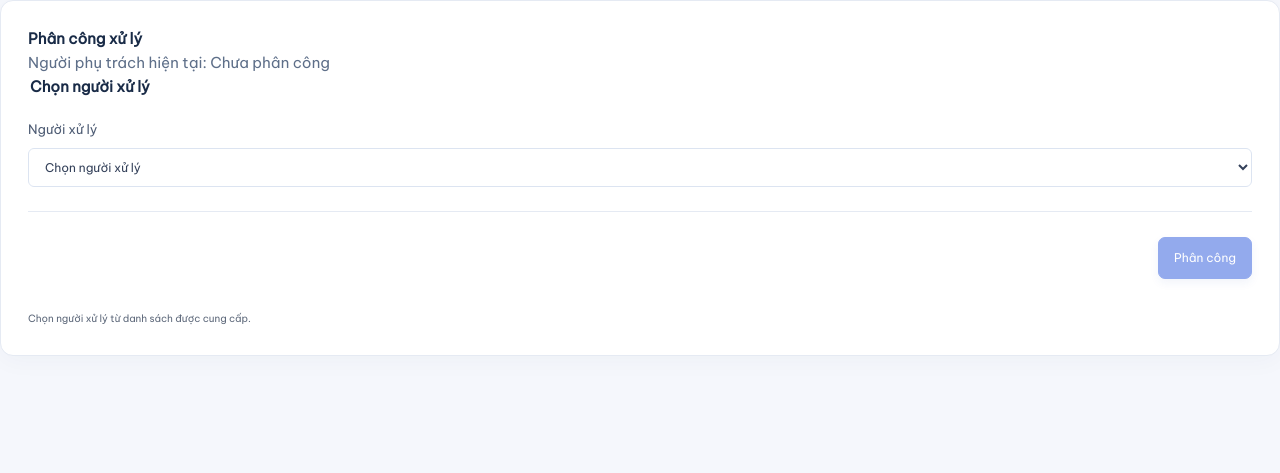
Test case: APP-11 assignment selection and single write › does not retry NOT_FOUND and keeps the write stopped
Later steps or results of the test are not shown.
Select "Nguyễn An" in the dropdown at (640, 168), box [28, 148, 1252, 187]
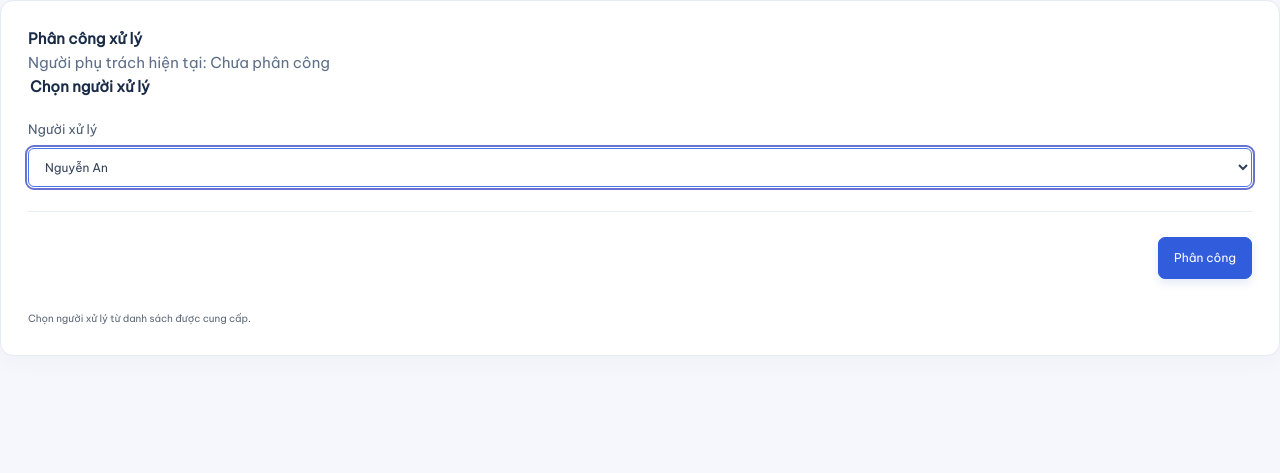
Double-click the button "Phân công" at (1205, 258), box [1158, 237, 1252, 279]
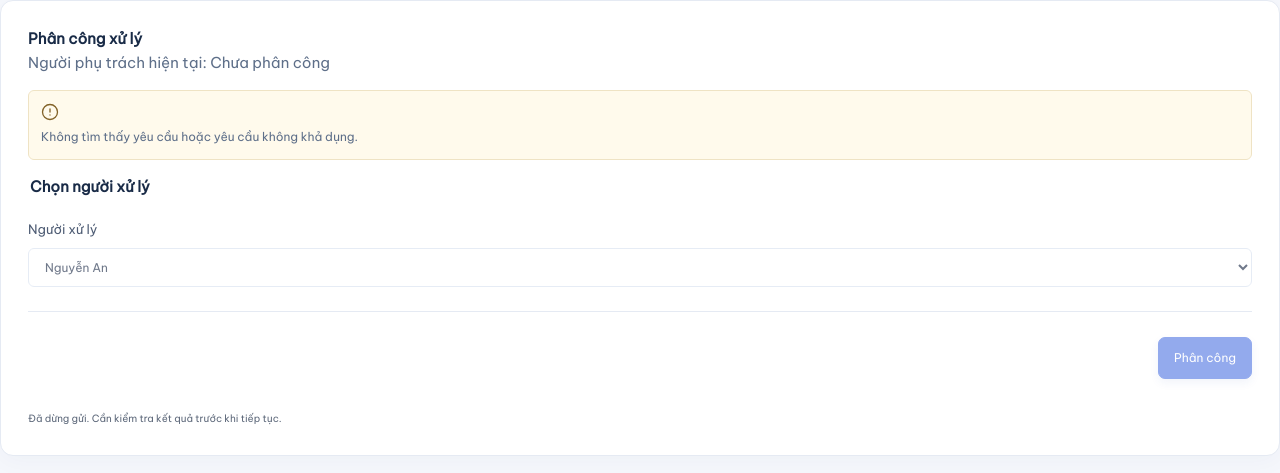
Result: the message "Không tìm thấy yêu cầu hoặc yêu cầu không khả dụng." is shown at [28, 90, 1252, 160]
Result: the button "Phân công" is disabled at [1158, 337, 1252, 379]
